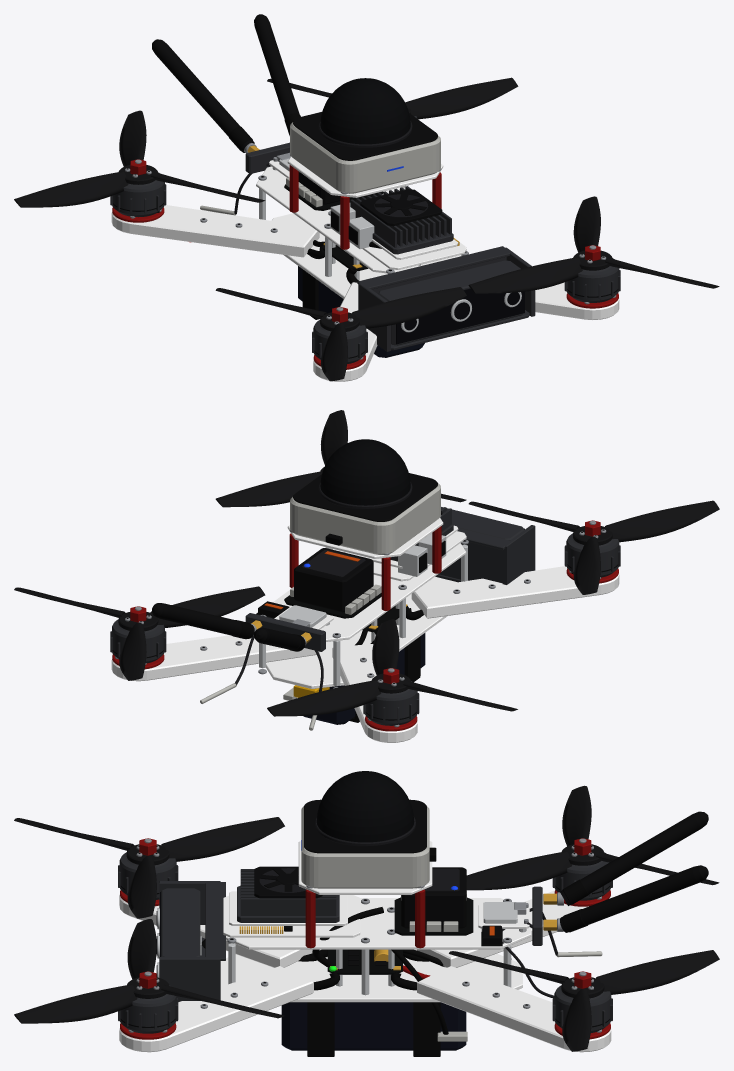
Rendered from aos7quad.obj.
The picture shows the model from 3 angles, top to bottom: view 1: azimuth 30°, elevation 25°; view 2: azimuth 150°, elevation 25°; view 3: azimuth 270°, elevation 25°; orthographic projection. The views are drawn at different scales.
Bounding box in the file's own units: 0.3618 × 0.1724 × 0.4125.
